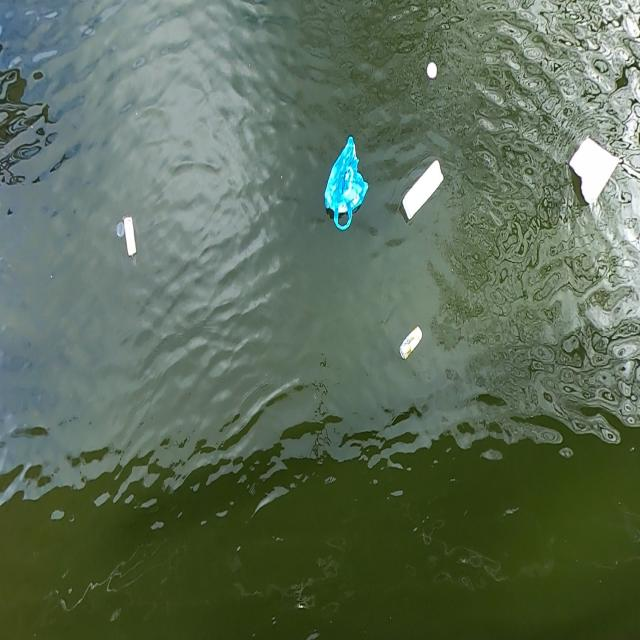Autre plastique: (566, 134, 622, 210), (399, 157, 449, 225)
Non plastique: (396, 323, 426, 365)
Sac plastique: (319, 131, 372, 234)
